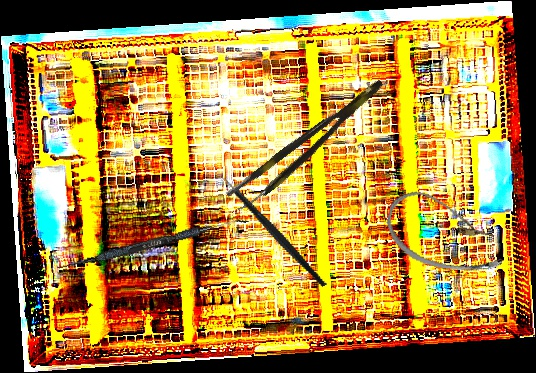Cannula: (378, 184, 515, 284)
Chopper: (210, 152, 329, 311)
Spatula Surgical: (56, 211, 249, 276)
Tissue Forceps: (225, 77, 394, 214)
